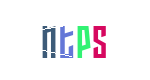N: (16, 0, 96, 80)
P: (43, 0, 123, 80)
S: (59, 0, 139, 80)
T: (34, 0, 114, 80)
